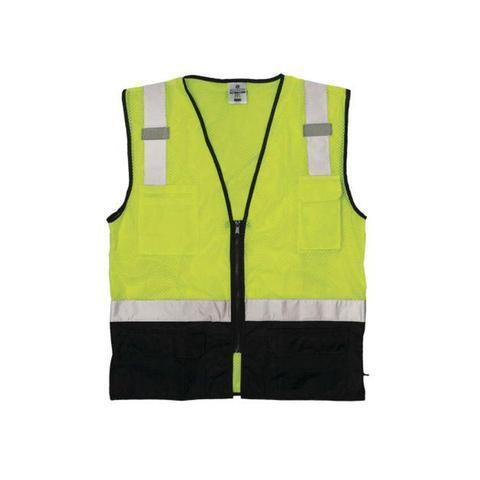vest: (104, 72, 368, 405)
